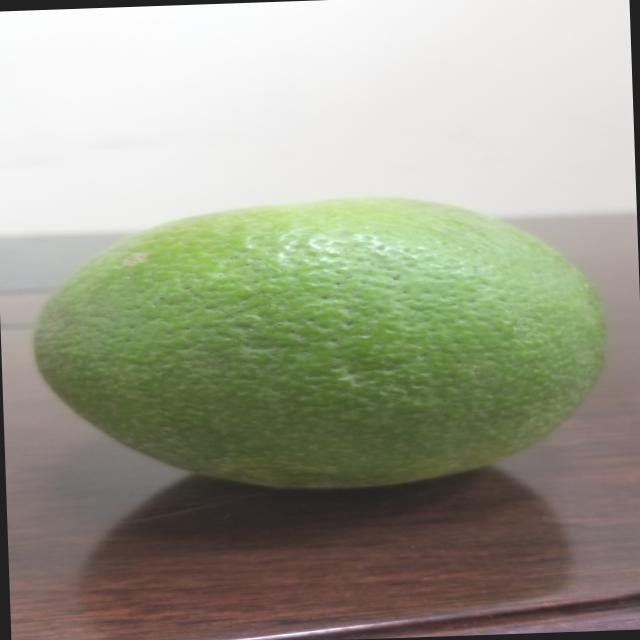agrume: (0, 182, 633, 507)
